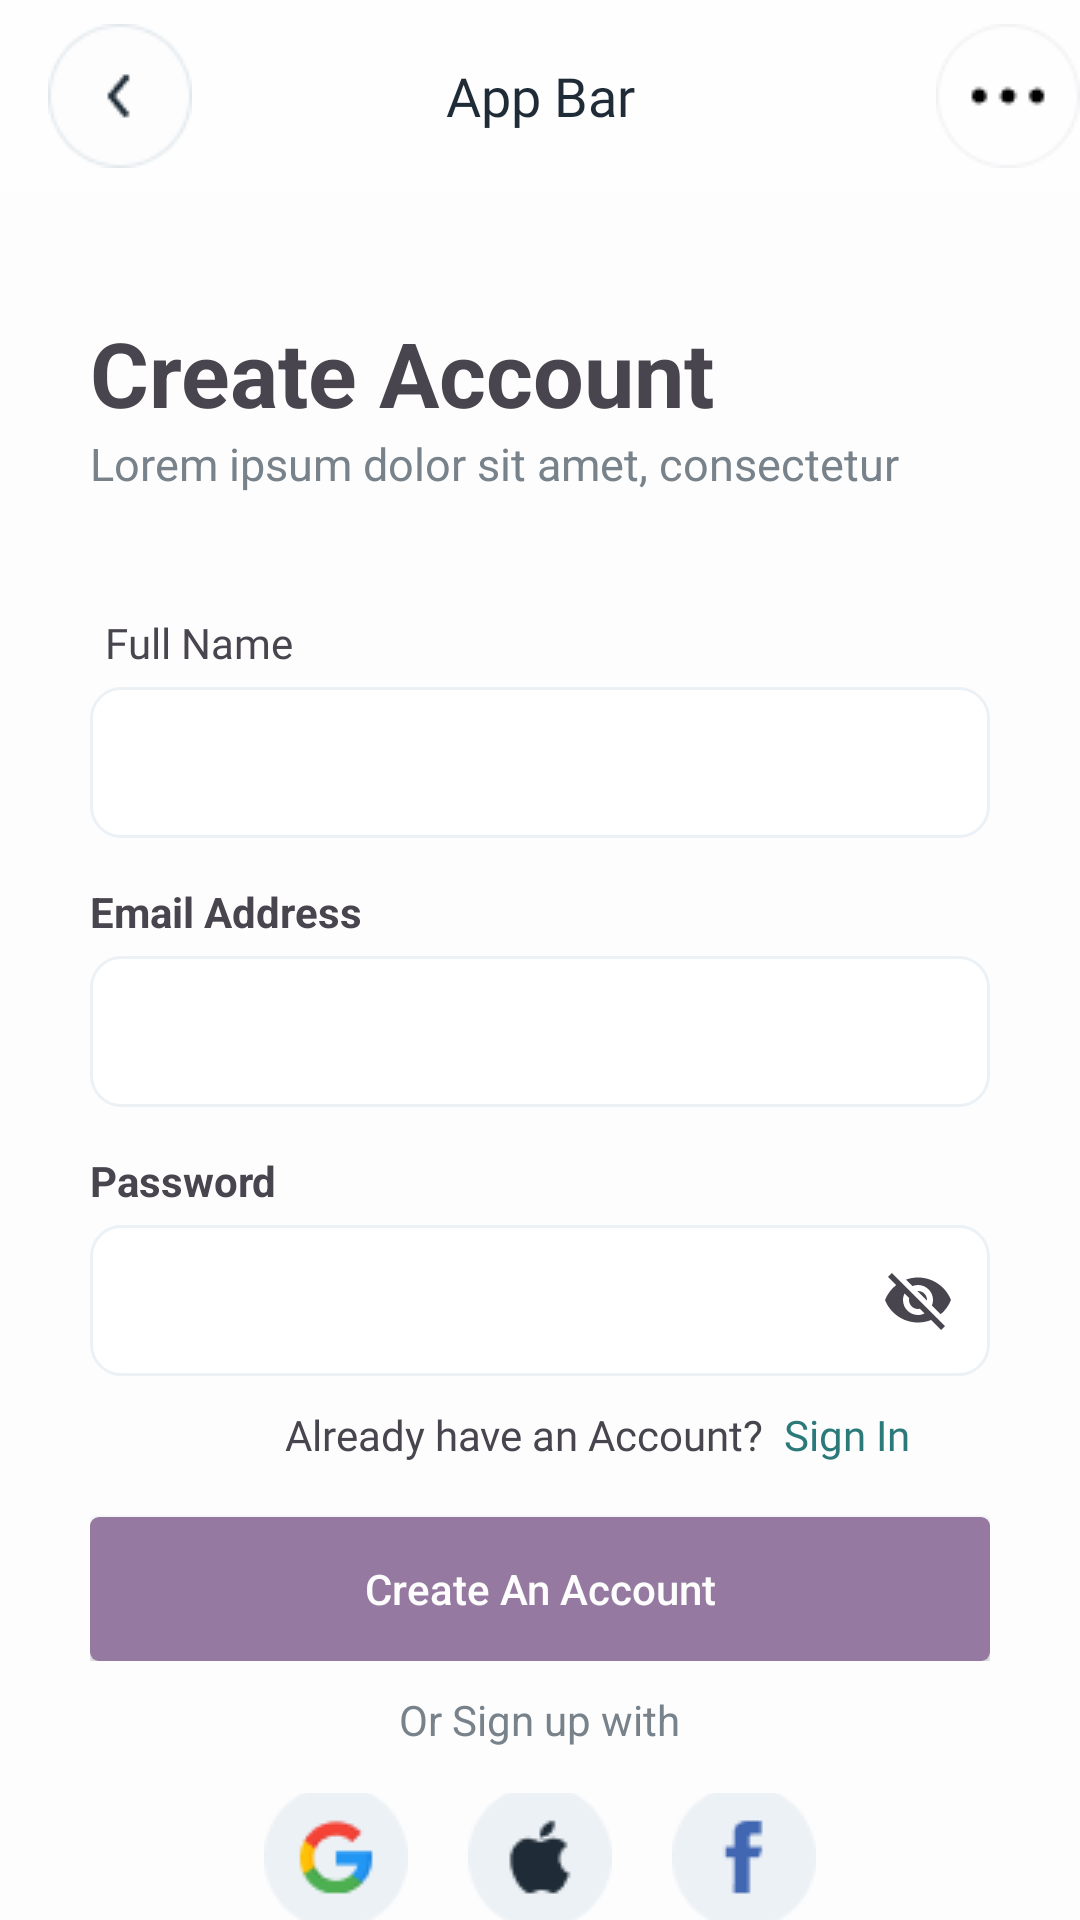

Screen size 1080px×1920px. Icon name, then its center in pixels as point (x, y):
arrow back: point (120, 96)
three dot: point (1008, 96)
